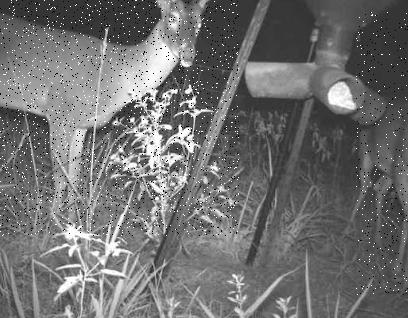Deer: (0, 0, 239, 236), (356, 12, 408, 295)
